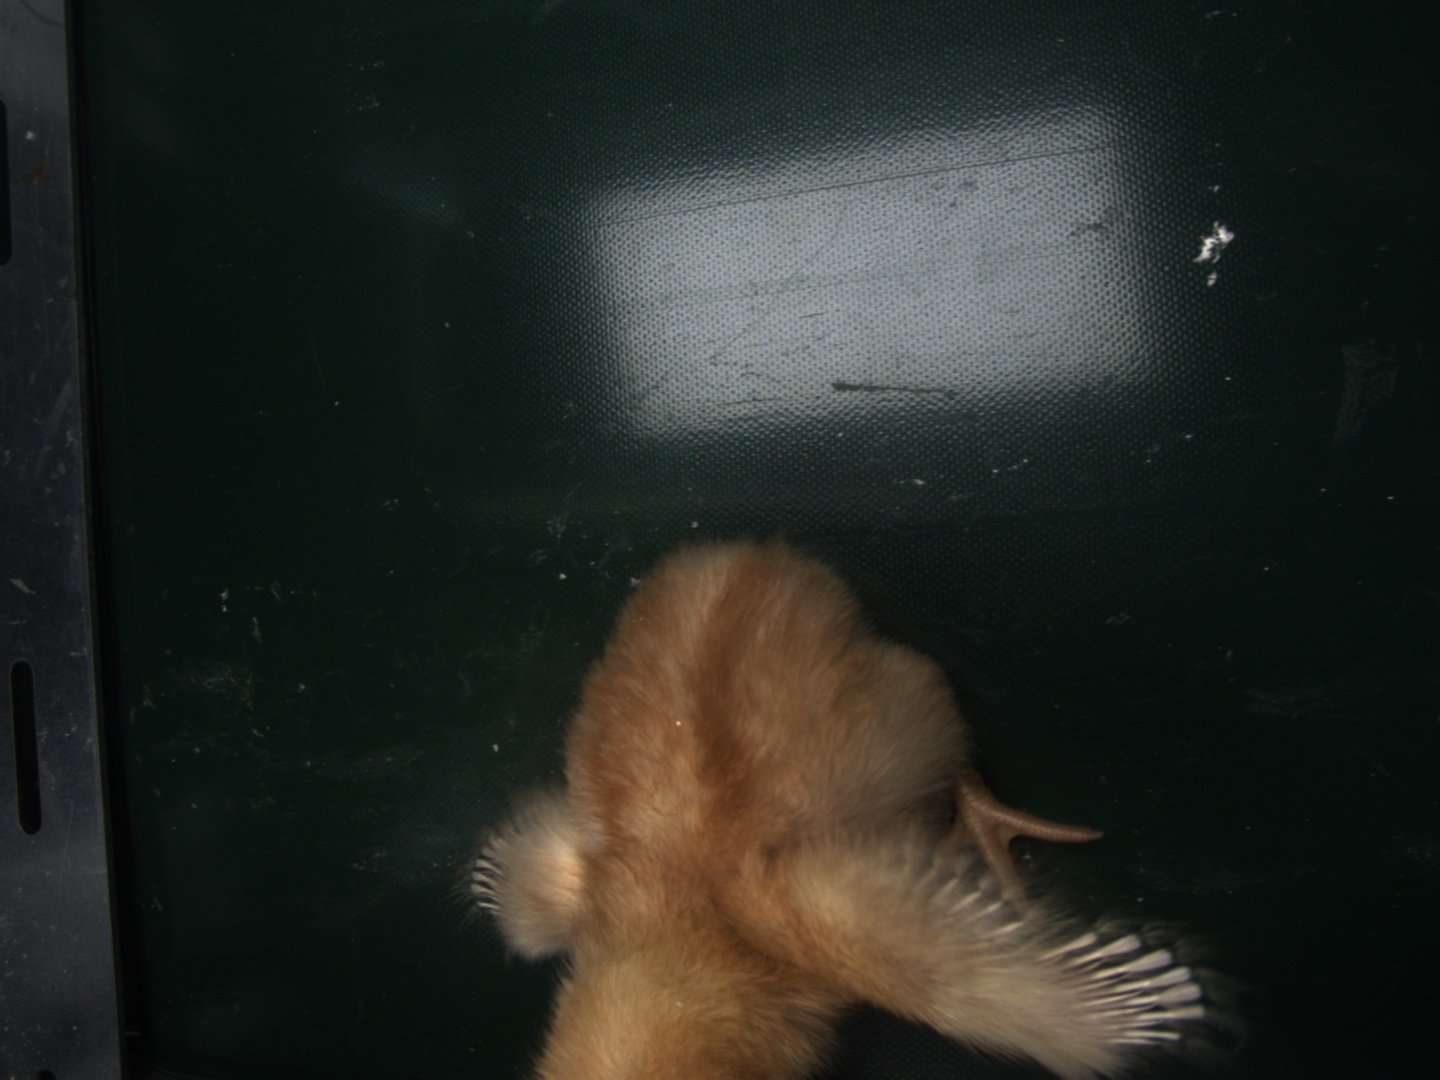female: (1037, 931, 1204, 1053)
